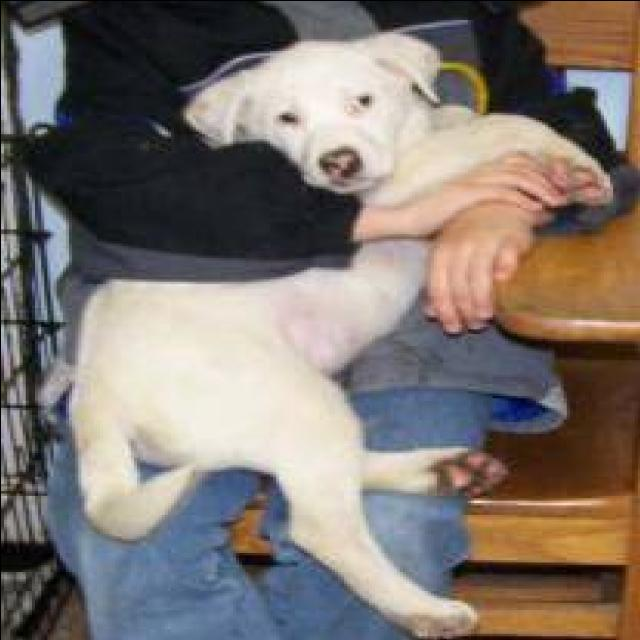dog: (44, 40, 616, 640)
